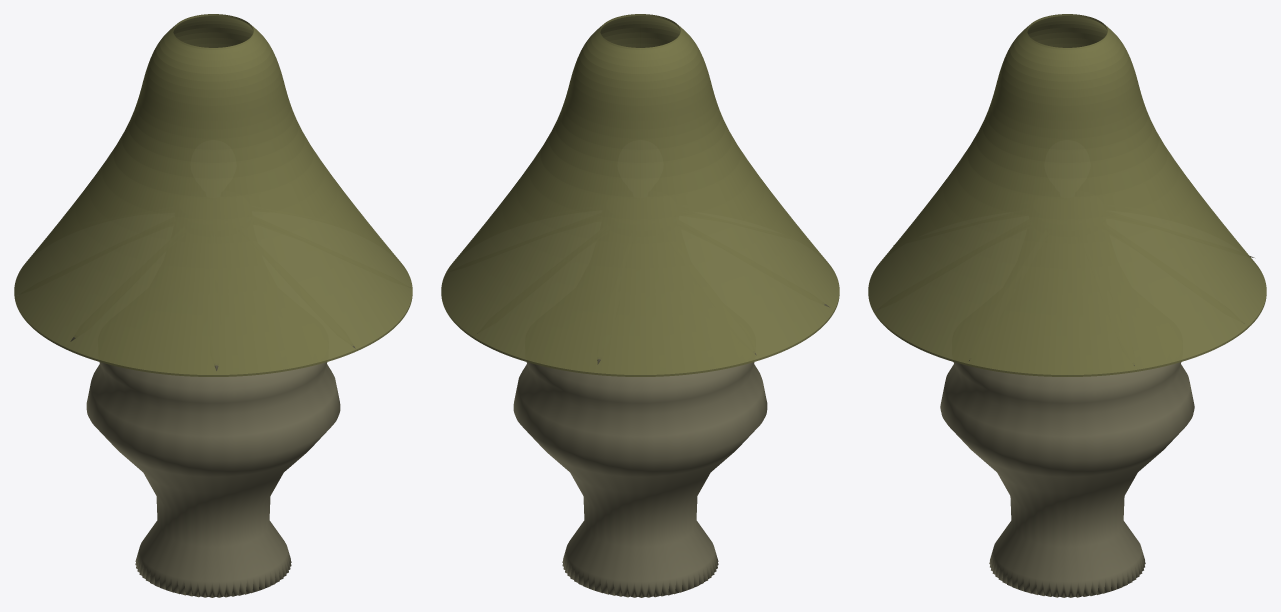
Rendered from Zellen_Tischlampe.fbx.
3 views of the same model, side by side, from view 1: azimuth 30°, elevation 25°; view 2: azimuth 150°, elevation 25°; view 3: azimuth 270°, elevation 25° (orthographic).
Visible parts, largest first — view 1: Torus.001, Cylinder; view 2: Torus.001, Cylinder; view 3: Torus.001, Cylinder.
Boxes of the visible parts, x1,y1,x2,y2 form: Torus.001: (14, 14, 412, 376); Cylinder: (17, 287, 410, 597); Torus.001: (441, 14, 839, 376); Cylinder: (446, 272, 829, 597); Torus.001: (868, 14, 1266, 376); Cylinder: (874, 245, 1254, 597).
Size of the model in its own units: 0.7059 by 1.06 by 0.7059.
